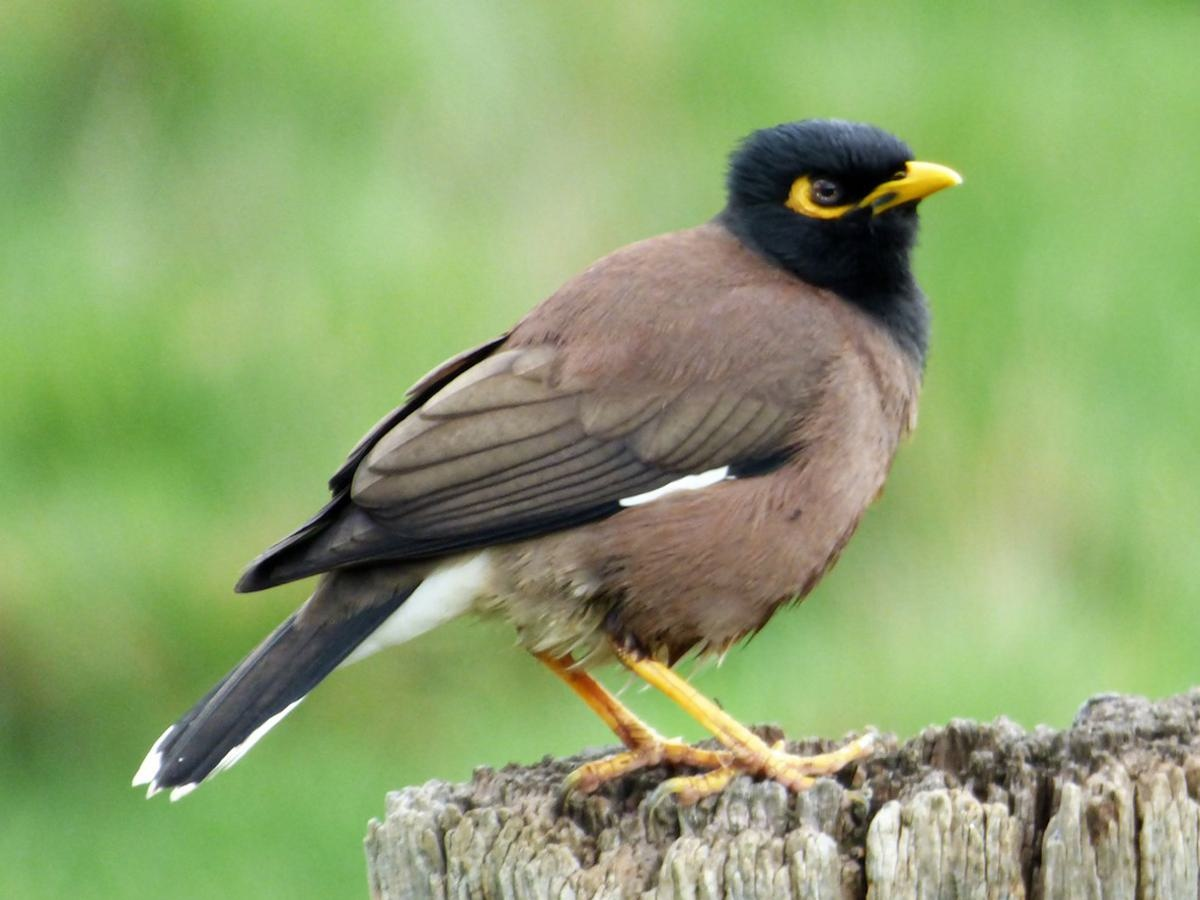myna: (153, 112, 993, 770)
